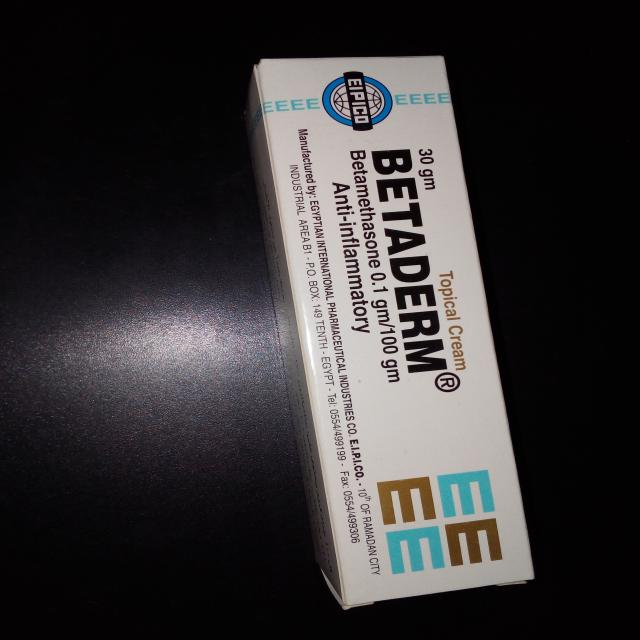Medicine: (246, 52, 539, 616)
